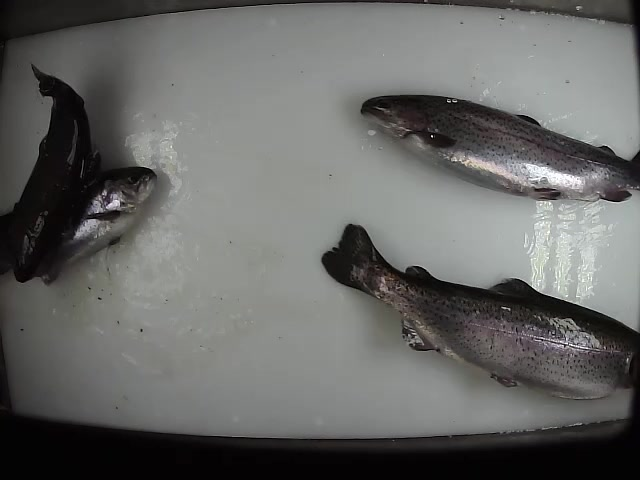fish: (319, 220, 640, 404), (359, 93, 640, 204), (7, 62, 97, 287), (1, 165, 158, 287)
